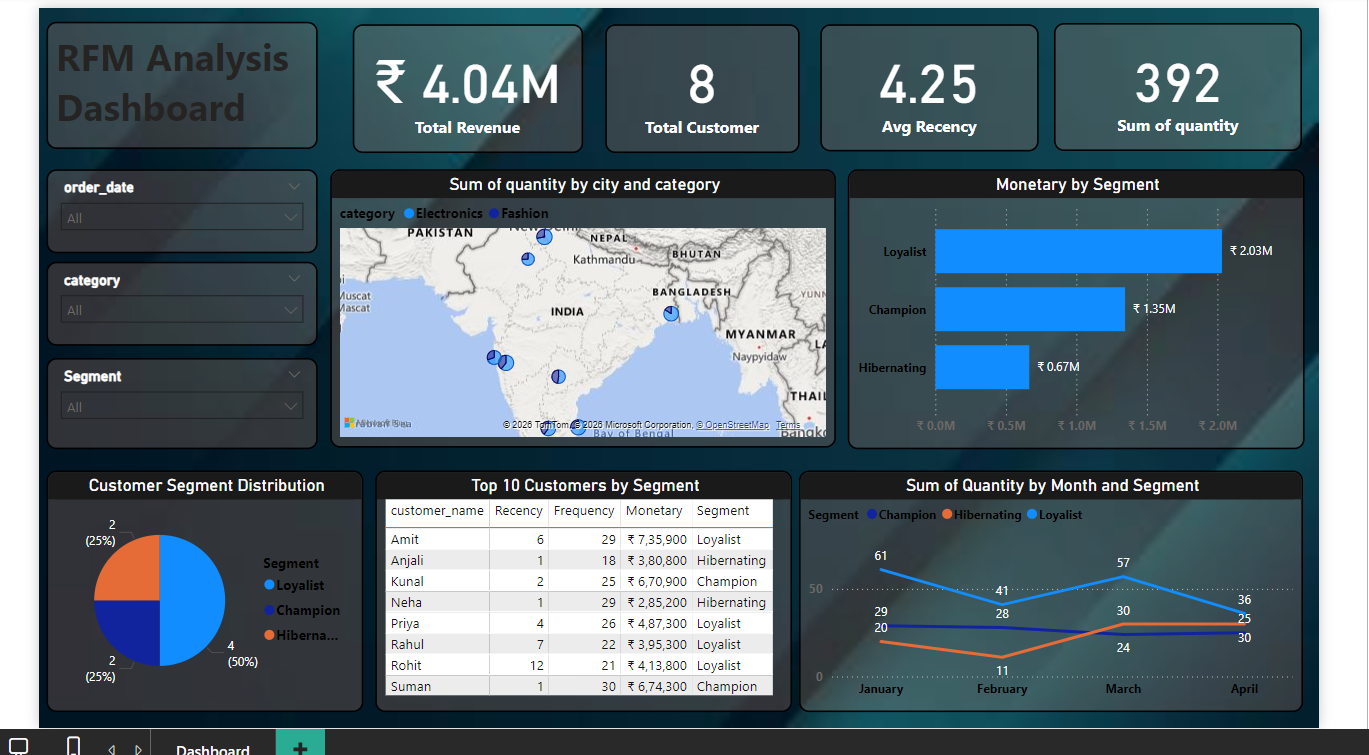

What the dashboard file says about the page in this screenshot:
{"tool":"powerbi","page":{"name":"Dashboard","canvas":[1280,720],"ordinal":0},"visuals":[{"type":"barChart","title":"Monetary by Segment ","fields":{"Category":["rfm_output_customer360.Segment"],"Y":["rfm_output_customer360.Monetary"]},"box":[808.6,161.4,457.1,280],"z":0},{"type":"pieChart","title":"Customer Segment Distribution","fields":{"Category":["rfm_output_customer360.Segment"],"Y":["rfm_output_customer360.customer_name"]},"box":[7.1,462.9,317.1,241.4],"z":1000},{"type":"lineChart","title":"Sum of Quantity by Month and  Segment","fields":{"Series":["rfm_output_customer360.Segment"],"Category":["Retail.order_date.Variation.Date Hierarchy.Month"],"Y":["Retail.quantity"]},"box":[760,462.9,504.3,241.4],"z":2000},{"type":"tableEx","title":"Top 10 Customers by Segment ","fields":{"Values":["rfm_output_customer360.customer_name","rfm_output_customer360.Recency","rfm_output_customer360.Frequency","rfm_output_customer360.Monetary","rfm_output_customer360.Segment"]},"box":[335.7,462.9,417.1,241.4],"z":3000},{"type":"card","title":"Segment Count","fields":{"Values":["rfm_output_customer360.Avg Recency"]},"box":[781.4,15.7,218.6,127.1],"z":4000},{"type":"card","title":"Segment Count","fields":{"Values":["rfm_output_customer360.Total Revenue"]},"box":[314.3,15.7,230,128.6],"z":5000},{"type":"textbox","box":[7.1,14.3,271.4,127.1],"z":6000},{"type":"card","title":"Segment Count","fields":{"Values":["rfm_output_customer360.Total Customer"]},"box":[565.7,15.7,194.3,128.6],"z":7000},{"type":"slicer","fields":{"Values":["rfm_output_customer360.Segment"]},"box":[7.1,350,271.4,91.4],"z":9000},{"type":"slicer","fields":{"Values":["Retail.category"]},"box":[7.1,254.3,271.4,84.3],"z":10000},{"type":"slicer","fields":{"Values":["Retail.order_date"]},"box":[7.1,161.4,271.4,84.3],"z":11000},{"type":"card","fields":{"Values":["Retail.quantity"]},"box":[1015.4,15.1,248.4,127.6],"z":12000},{"type":"map","fields":{"Size":["Retail.quantity"],"Series":["Retail.category"],"Category":["Retail.city"]},"box":[291.4,161.4,505.7,278.6],"z":12001}]}

Visuals, with their boxes on the page's 1280x720 design canvas (x1, y1, x2, y2). These are canvas units, not pixel positions in the 1369x755 screenshot, which may show the page scaled, cropped or inside an application window:
"Monetary by Segment " barChart: [left=809, top=161, right=1266, bottom=441]
"Customer Segment Distribution" pieChart: [left=7, top=463, right=324, bottom=704]
"Sum of Quantity by Month and  Segment" lineChart: [left=760, top=463, right=1264, bottom=704]
"Top 10 Customers by Segment " tableEx: [left=336, top=463, right=753, bottom=704]
"Segment Count" card: [left=781, top=16, right=1000, bottom=143]
"Segment Count" card: [left=314, top=16, right=544, bottom=144]
textbox: [left=7, top=14, right=278, bottom=141]
"Segment Count" card: [left=566, top=16, right=760, bottom=144]
slicer - rfm_output_customer360.Segment: [left=7, top=350, right=278, bottom=441]
slicer - Retail.category: [left=7, top=254, right=278, bottom=339]
slicer - Retail.order_date: [left=7, top=161, right=278, bottom=246]
card - Retail.quantity: [left=1015, top=15, right=1264, bottom=143]
map - Retail.quantity x Retail.category: [left=291, top=161, right=797, bottom=440]
